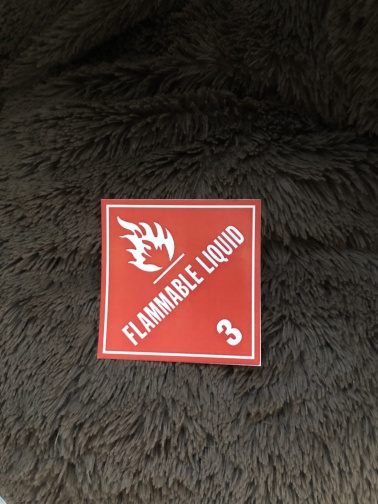FlammableLiquid: (97, 198, 263, 368)
